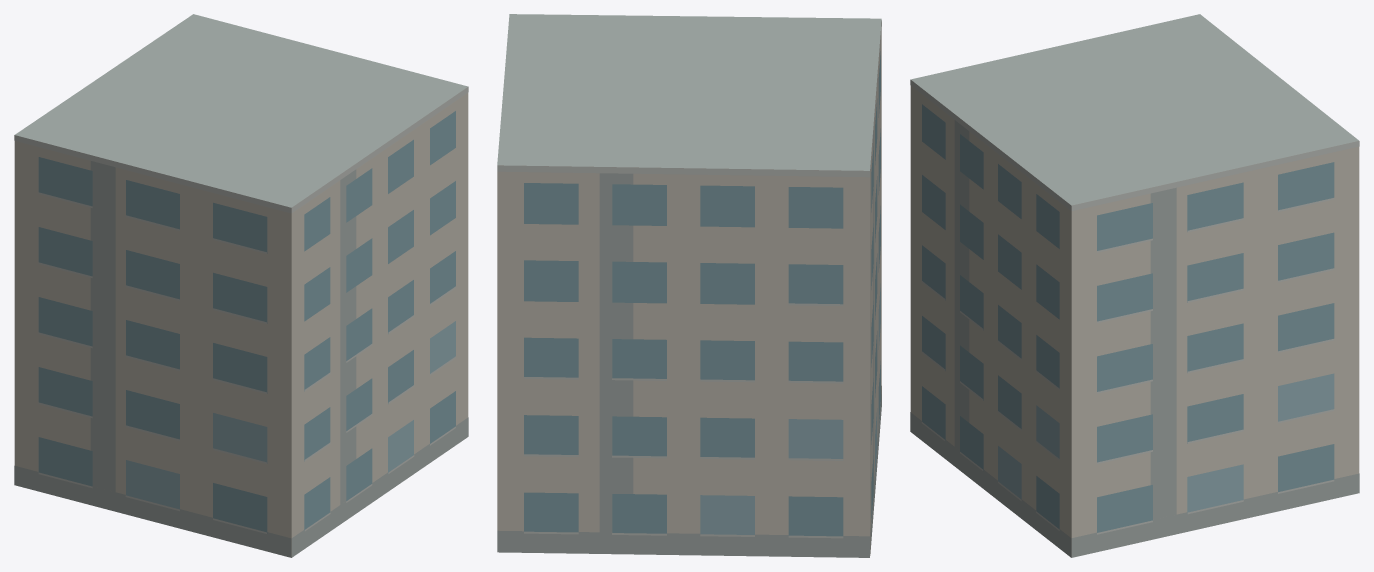
File: survey-upis-32889373.glb
3 views of the same model, side by side, from view 1: azimuth 30°, elevation 25°; view 2: azimuth 150°, elevation 25°; view 3: azimuth 270°, elevation 25° (orthographic). The views are drawn at different scales.
Parts seen in each view (by area): view 1: survey-upis-32889373.tmp; view 2: survey-upis-32889373.tmp; view 3: survey-upis-32889373.tmp.
Boxes of the visible parts, bbox=[...] form: survey-upis-32889373.tmp: bbox=[14, 14, 468, 557]; survey-upis-32889373.tmp: bbox=[497, 14, 881, 557]; survey-upis-32889373.tmp: bbox=[910, 14, 1359, 557].
Size of the model in its own units: 17.38 by 14.9 by 17.21.
